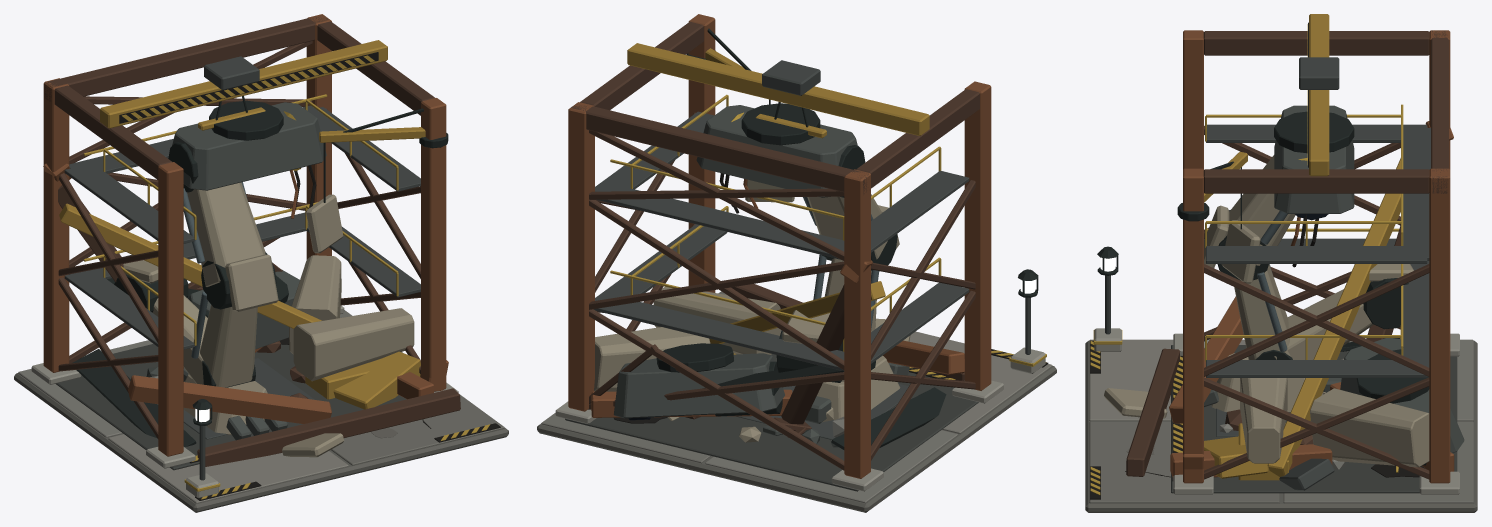
The model's file is t_juggernaut.glb.
The picture shows the model from 3 angles, left to right: view 1: azimuth 30°, elevation 25°; view 2: azimuth 150°, elevation 25°; view 3: azimuth 270°, elevation 25°; orthographic projection. The views are drawn at different scales.
Parts seen in each view (by area): view 1: Intact structure, Ruined structure, Site foundation; view 2: Intact structure, Ruined structure, Site foundation; view 3: Intact structure, Ruined structure, Site foundation.
Boxes of the visible parts, <box> form: Intact structure: <box>43,14,448,456</box>; Ruined structure: <box>43,163,460,466</box>; Site foundation: <box>14,305,508,512</box>; Intact structure: <box>568,14,991,478</box>; Ruined structure: <box>568,260,990,477</box>; Site foundation: <box>537,269,1056,512</box>; Intact structure: <box>1177,14,1450,483</box>; Ruined structure: <box>1104,121,1464,490</box>; Site foundation: <box>1085,246,1477,512</box>.
Size of the model in its own units: 7.8 by 7.86 by 7.8.
